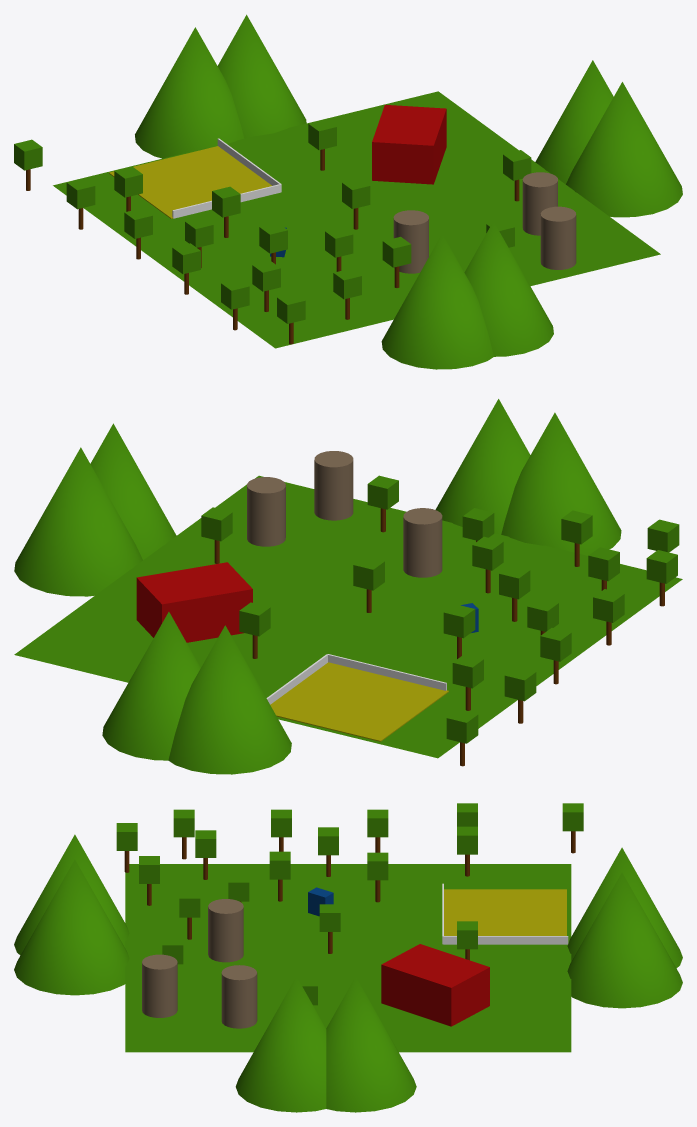
The model's file is Level_Idea3_V01.fbx.
3 views of the same model, one above another, from view 1: azimuth 30°, elevation 25°; view 2: azimuth 150°, elevation 25°; view 3: azimuth 270°, elevation 25° (orthographic). The views are drawn at different scales.
Visible parts, largest first — view 1: Ground, Leaves (×17), Mountain1, Mountain4, Mountain7, Mountain, Mountain6, Barn, Corn, Mountain5, Silo, Silo1 (+4 smaller); view 2: Ground, Leaves (×18), Mountain7, Mountain5, Mountain1, Corn, Mountain6, Barn, Mountain, Mountain4, Mountain2, Silo (+4 smaller); view 3: Ground, Leaves (×17), Mountain6, Mountain4, Mountain5, Mountain, Barn, Corn, Mountain1, Mountain7, Silo1, Silo (+4 smaller).
Part boxes in pixels (x1=…): Ground: x1=53, y1=91, x2=660, y2=348; Leaves (×17): x1=14, y1=119, x2=531, y2=323; Mountain1: x1=381, y1=234, x2=493, y2=369; Mountain4: x1=566, y1=82, x2=682, y2=217; Mountain7: x1=135, y1=27, x2=244, y2=158; Mountain: x1=464, y1=221, x2=553, y2=356; Mountain6: x1=217, y1=14, x2=306, y2=138; Barn: x1=372, y1=104, x2=446, y2=184; Corn: x1=109, y1=146, x2=271, y2=218; Mountain5: x1=535, y1=60, x2=613, y2=184; Silo: x1=540, y1=206, x2=576, y2=269; Silo1: x1=522, y1=172, x2=557, y2=235; Ground: x1=14, y1=475, x2=682, y2=758; Leaves (×18): x1=201, y1=475, x2=679, y2=743; Mountain7: x1=168, y1=625, x2=291, y2=774; Mountain5: x1=14, y1=447, x2=142, y2=596; Mountain1: x1=501, y1=412, x2=621, y2=555; Corn: x1=270, y1=662, x2=448, y2=741; Mountain6: x1=102, y1=612, x2=200, y2=760; Barn: x1=136, y1=562, x2=252, y2=642; Mountain: x1=436, y1=399, x2=529, y2=534; Mountain4: x1=90, y1=423, x2=176, y2=559; Mountain2: x1=435, y1=402, x2=530, y2=534; Silo: x1=314, y1=451, x2=353, y2=520; Ground: x1=125, y1=864, x2=571, y2=1052; Leaves (×17): x1=116, y1=803, x2=583, y2=964; Mountain6: x1=567, y1=872, x2=682, y2=1008; Mountain4: x1=235, y1=976, x2=326, y2=1112; Mountain5: x1=326, y1=976, x2=416, y2=1112; Mountain: x1=14, y1=859, x2=129, y2=995; Barn: x1=381, y1=944, x2=489, y2=1026; Corn: x1=444, y1=889, x2=566, y2=935; Mountain1: x1=14, y1=834, x2=129, y2=955; Mountain7: x1=567, y1=847, x2=682, y2=968; Silo1: x1=221, y1=965, x2=257, y2=1028; Silo: x1=142, y1=954, x2=177, y2=1017.
Bounding box in the file's own units: 335 × 68.34 × 375.
